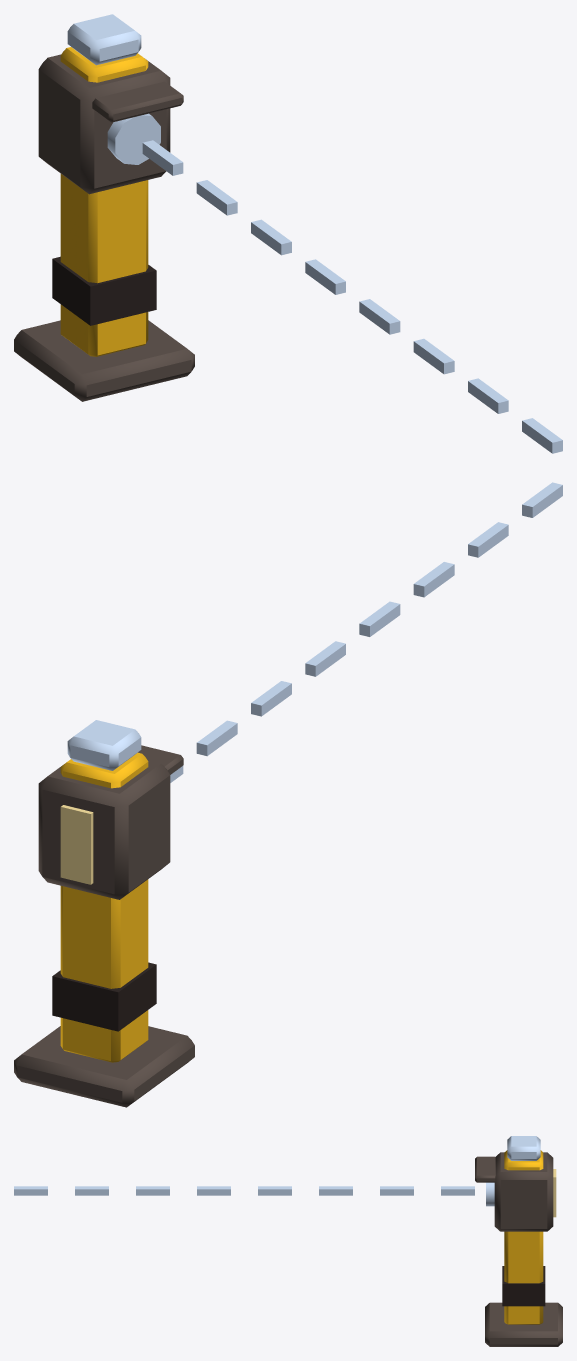
Rendered from trap_sensor__upper.glb.
The picture shows the model from 3 angles, top to bottom: view 1: azimuth 30°, elevation 25°; view 2: azimuth 150°, elevation 25°; view 3: azimuth 270°, elevation 25°; orthographic projection. The views are drawn at different scales.
Visible parts, largest first — view 1: Post, Beam, Lens; view 2: Post, Beam, Lens; view 3: Post, Beam, Lens.
Boxes of the visible parts, bbox=[...] form: Post: bbox=[14, 47, 194, 401]; Beam: bbox=[142, 140, 562, 453]; Lens: bbox=[67, 14, 160, 164]; Post: bbox=[14, 745, 194, 1107]; Beam: bbox=[170, 482, 562, 782]; Lens: bbox=[67, 720, 141, 770]; Post: bbox=[475, 1150, 562, 1346]; Beam: bbox=[14, 1186, 474, 1195]; Lens: bbox=[486, 1136, 540, 1206].
Size of the model in its own units: 0.16 by 0.432 by 1.12.
